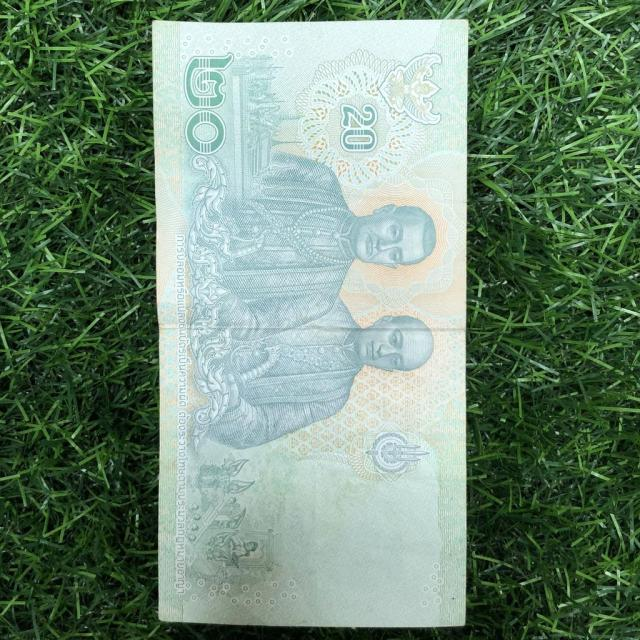THAI20: (154, 20, 468, 627)
